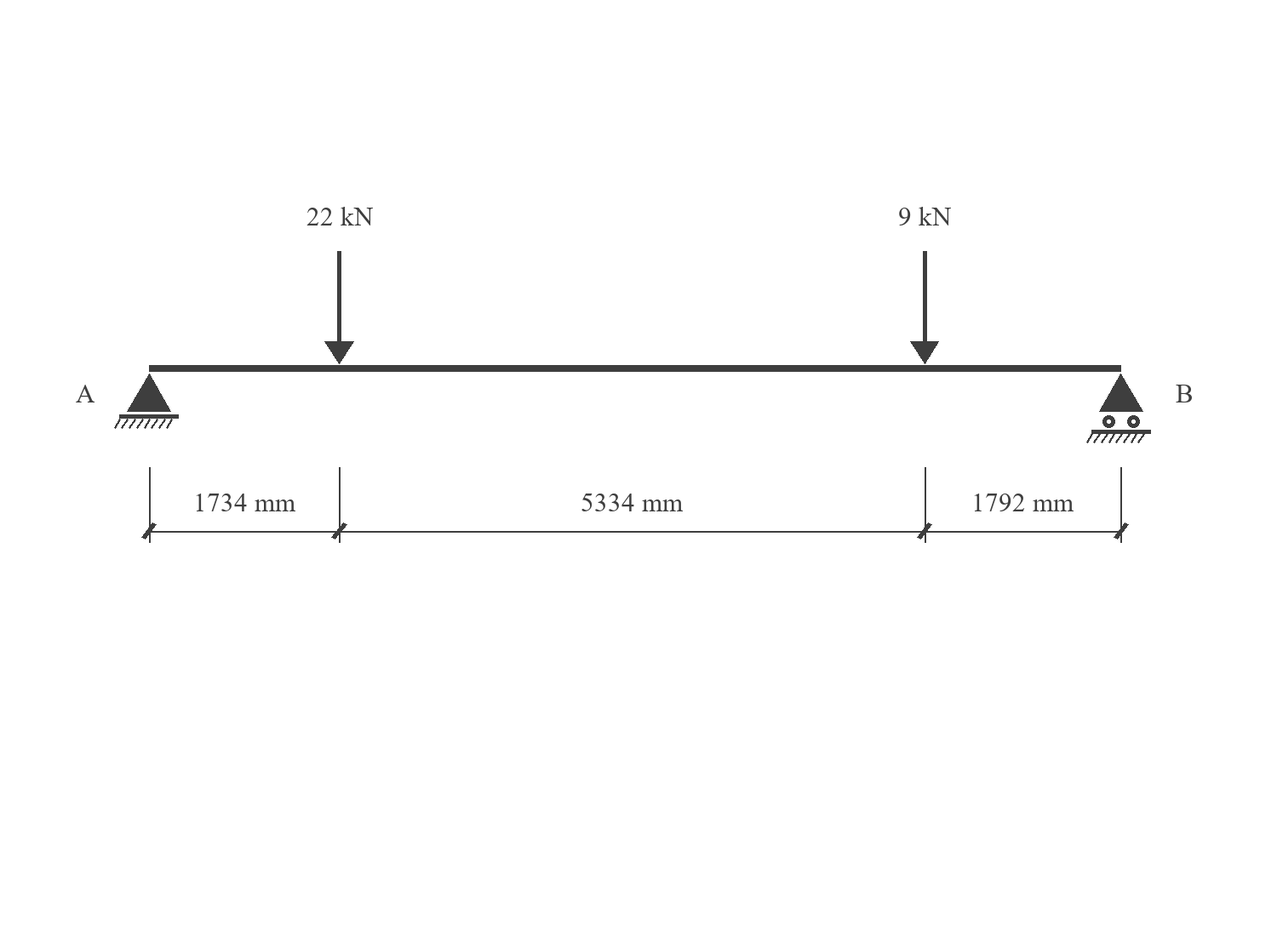pin_support: (114, 374, 179, 429)
point_load: (324, 251, 354, 364), (910, 251, 939, 364)
roller_support: (1086, 374, 1151, 443)
